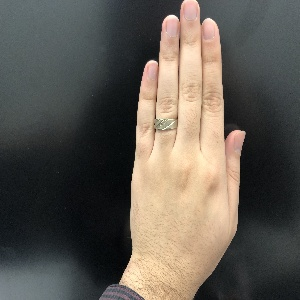hand: (129, 1, 246, 253)
